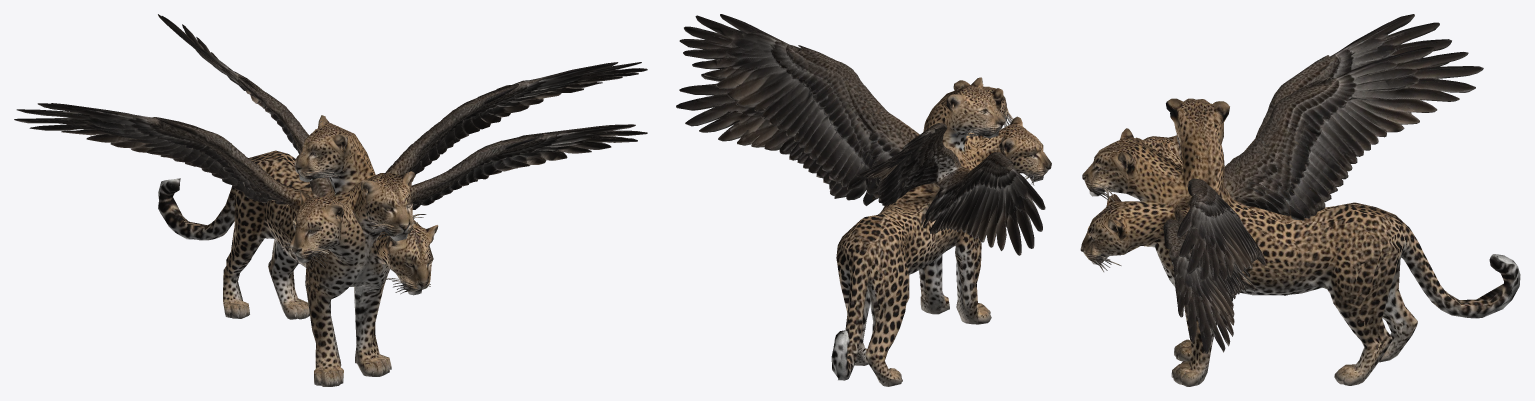
File: leopard.glb
3 renders of one model, left to right at view 1: azimuth 30°, elevation 25°; view 2: azimuth 150°, elevation 25°; view 3: azimuth 270°, elevation 25°, orthographic. The views are drawn at different scales.
Size of the model in its own units: 1.9 by 0.9949 by 1.37.
Materials: 1 (1 with a texture image).
